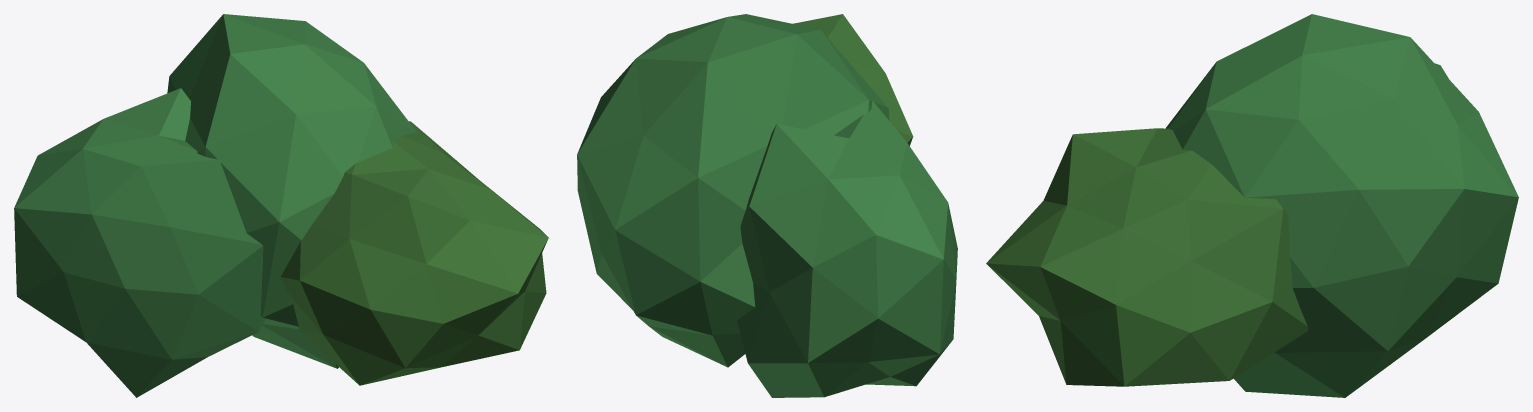
The model's file is bush-b.glb.
The picture shows the model from 3 angles, left to right: view 1: azimuth 30°, elevation 25°; view 2: azimuth 150°, elevation 25°; view 3: azimuth 270°, elevation 25°; orthographic projection. The views are drawn at different scales.
Parts seen in each view (by area): view 1: bush; view 2: bush; view 3: bush.
Part boxes in pixels (bbox=[...]): bush: bbox=[14, 14, 548, 397]; bush: bbox=[577, 14, 957, 397]; bush: bbox=[986, 14, 1518, 397].
Size of the model in its own units: 2.24 by 1.65 by 2.35.
